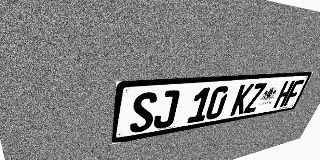0: (204, 86, 230, 120)
1: (187, 87, 214, 124)
F: (283, 80, 305, 107)
H: (273, 80, 295, 108)
J: (152, 90, 181, 130)
K: (230, 84, 254, 116)
S: (129, 91, 158, 134)
Z: (243, 83, 267, 114)
